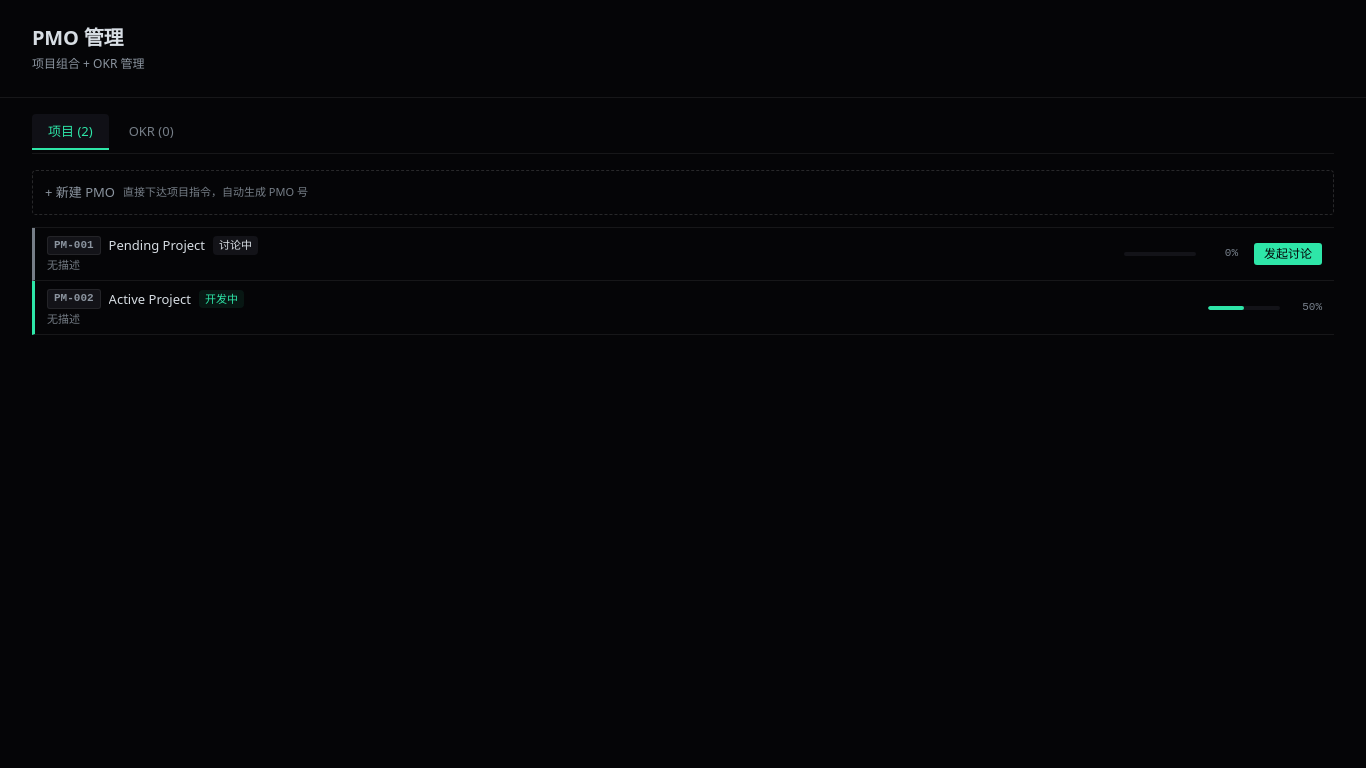
Test: AC-6: PMO publish button › dialog warns when channel has no responder
Step 1. Click the button "发起讨论" → (1288, 254), box [1254,242,1322,265]
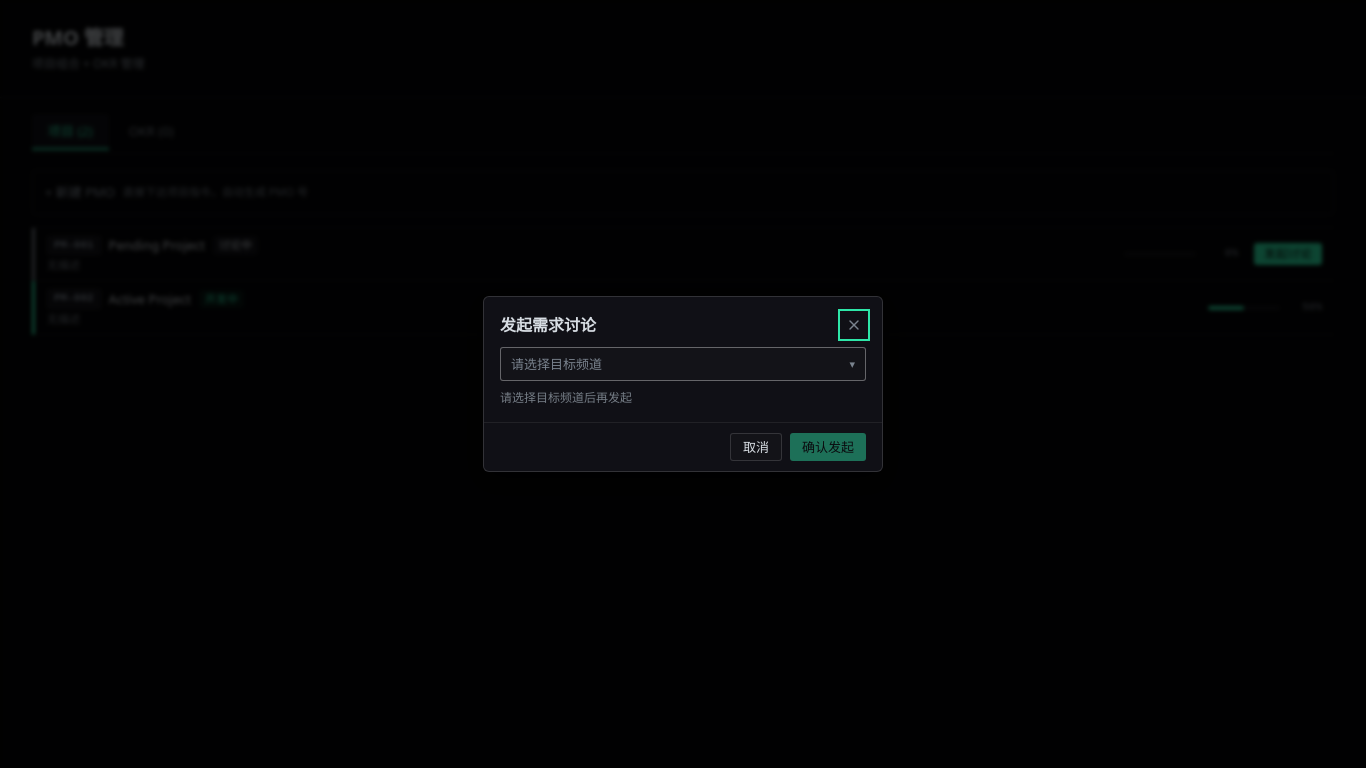
Step 2. Click the button "请选择目标频道 ▾" → (557, 364), box [500,347,866,381]
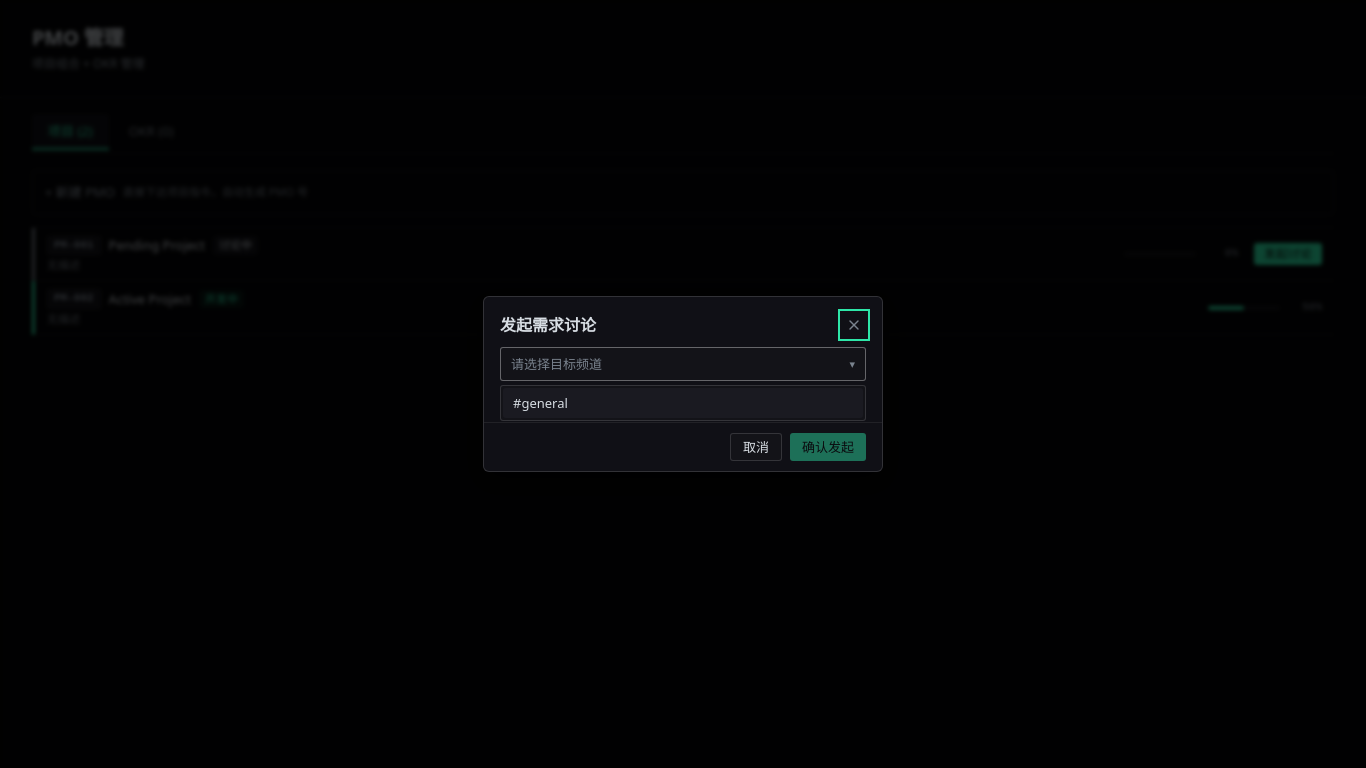
Step 3. Click the option "#general" → (540, 403), box [503,388,863,418]
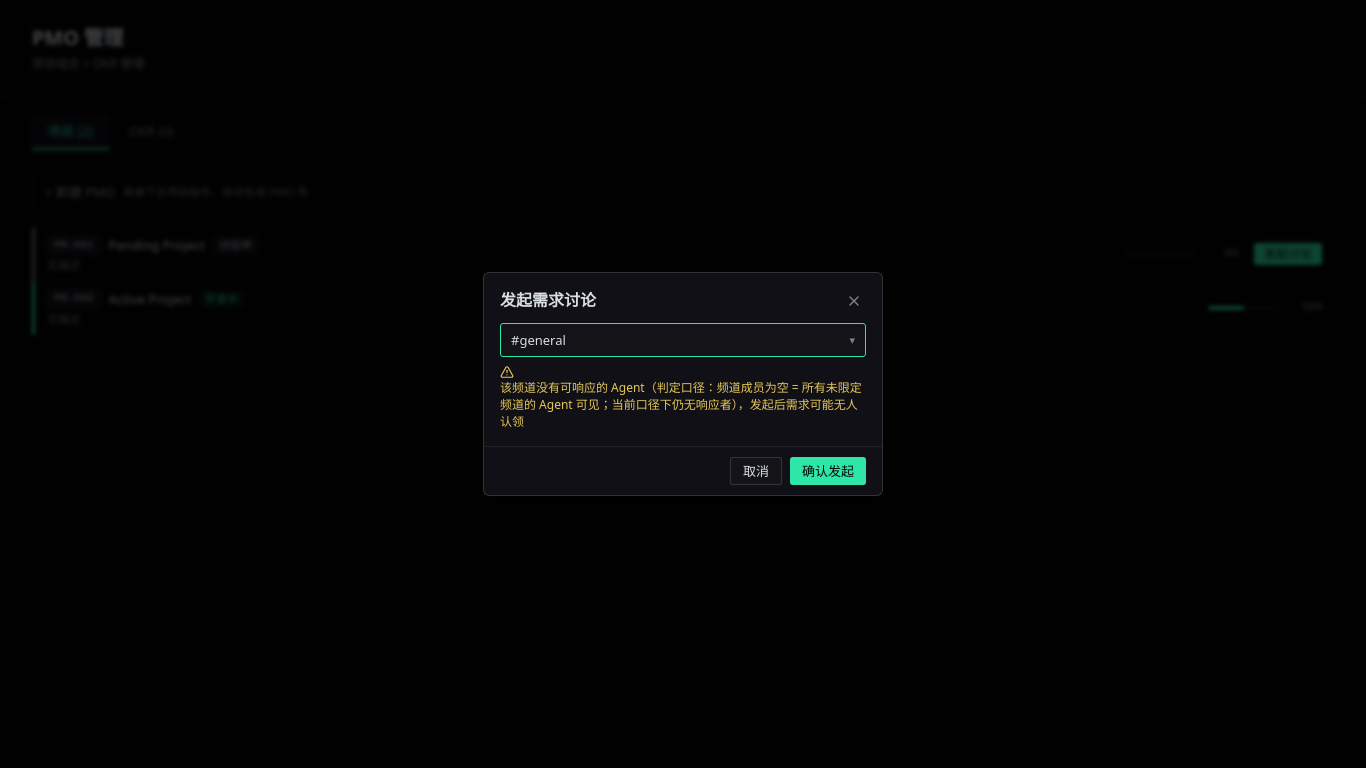
Now the text "无人认领" is shown, box [500,379,862,430]
